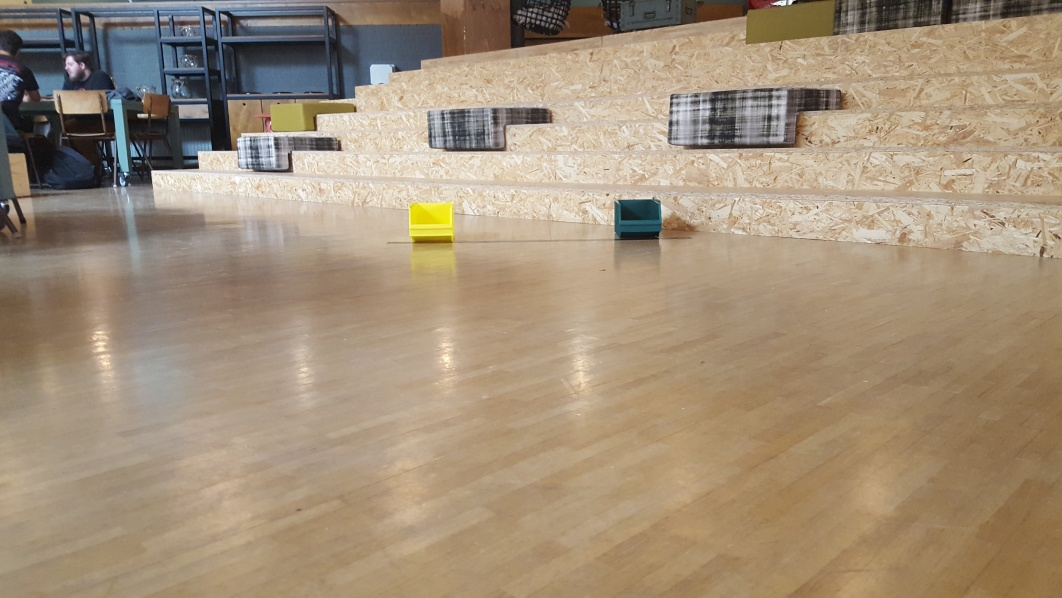tray: (605, 196, 668, 239), (404, 197, 457, 242)
